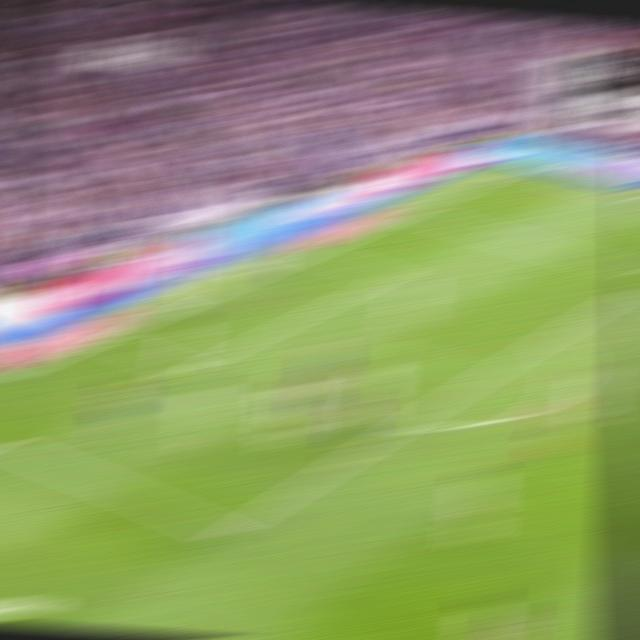bigarea_bottom_inner: (208, 517, 246, 549)
bigarea_top_outter: (397, 206, 431, 219)
bottom_arc_area_intersection: (385, 414, 422, 436)
corner: (497, 163, 533, 176)
smallarea_bottom_inner: (173, 360, 206, 378)
smallarea_bottom_outter: (90, 332, 123, 345)
smallarea_top_inner: (373, 267, 406, 285)
top_arc_area_intersection: (534, 328, 568, 346)
